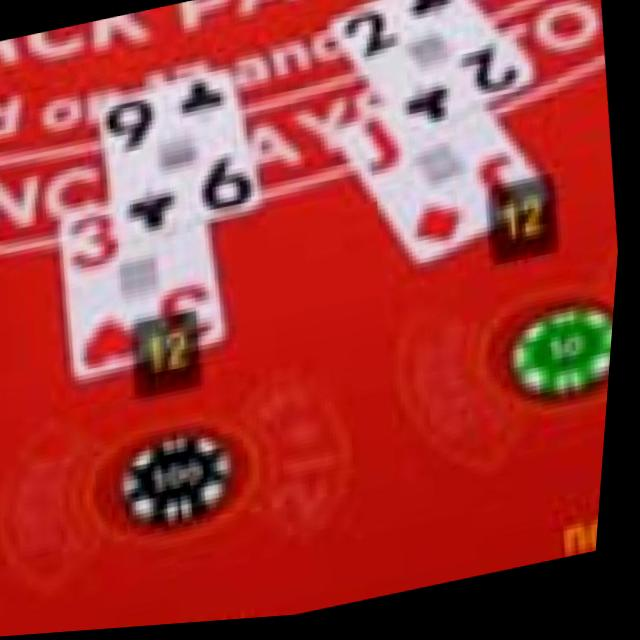Card-2: (330, 0, 538, 144)
Card-3: (64, 201, 230, 382)
Card-9: (102, 70, 264, 247)
Card-J: (341, 112, 554, 274)
